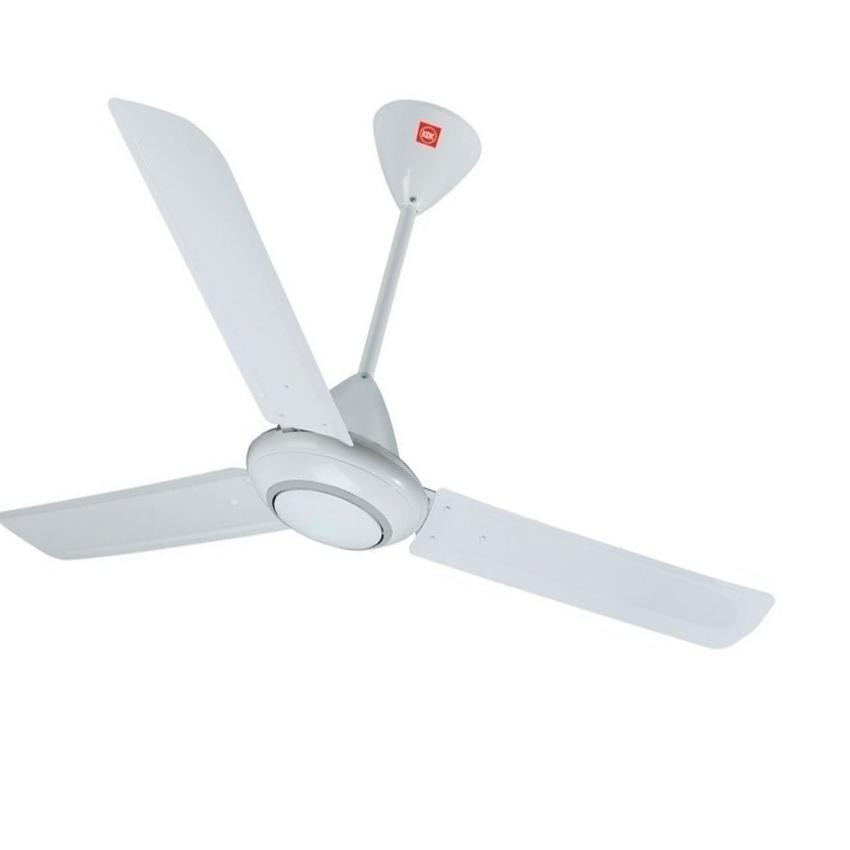fan: (0, 76, 781, 676)
